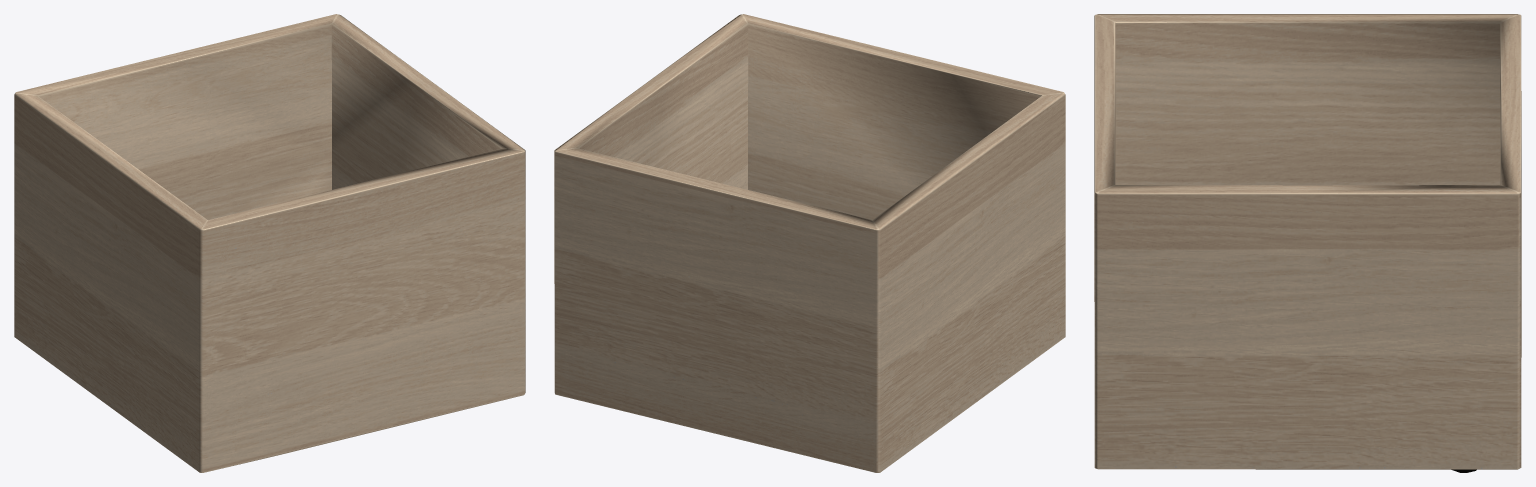
File: eket_szafka_90428842.glb
The picture shows the model from 3 angles, left to right: view 1: azimuth 30°, elevation 25°; view 2: azimuth 150°, elevation 25°; view 3: azimuth 270°, elevation 25°; orthographic projection. The views are drawn at different scales.
Visible parts, largest first — view 1: eket_szafka_90428842; view 2: eket_szafka_90428842; view 3: eket_szafka_90428842.
Part boxes in pixels (x1,y1,x2,y2): eket_szafka_90428842: (14, 14, 525, 472); eket_szafka_90428842: (554, 14, 1065, 472); eket_szafka_90428842: (1094, 14, 1521, 472).
Bounding box in the file's own units: 0.3502 × 0.2673 × 0.3501.
Materials: 1 (1 with a texture image).
